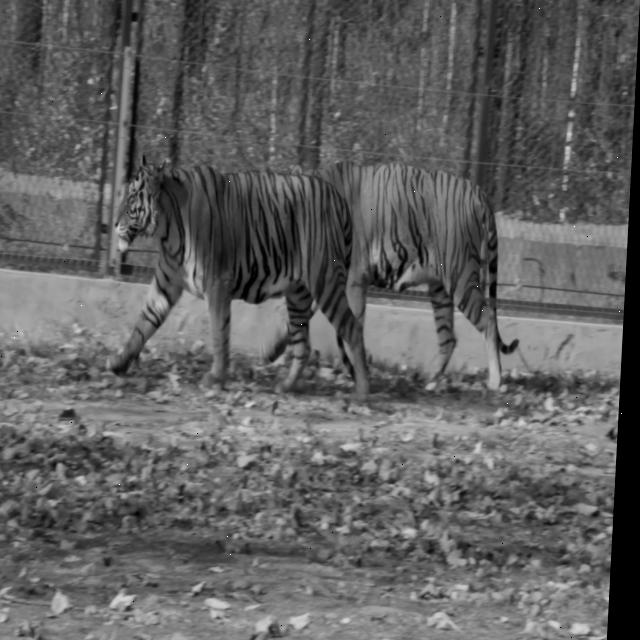Tiger: (102, 152, 383, 400), (259, 158, 529, 400)
